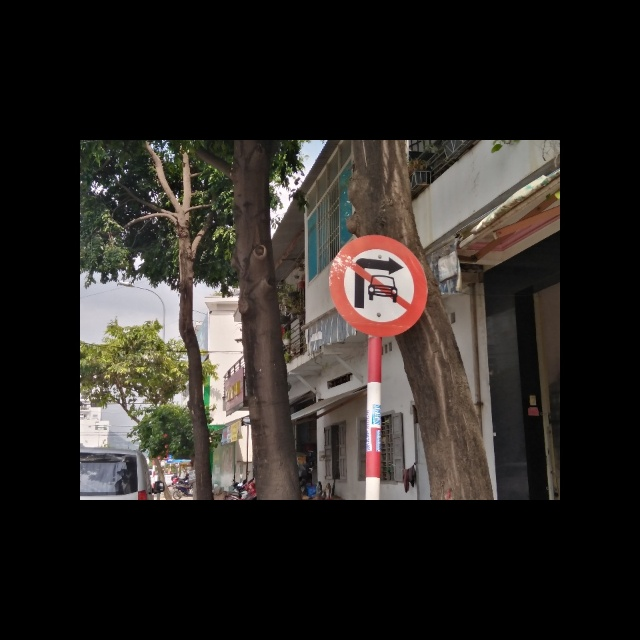Cấm xe ô tô rẽ trái: (328, 231, 429, 339)
